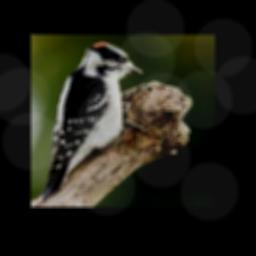Woodpecker: (35, 41, 151, 201)
